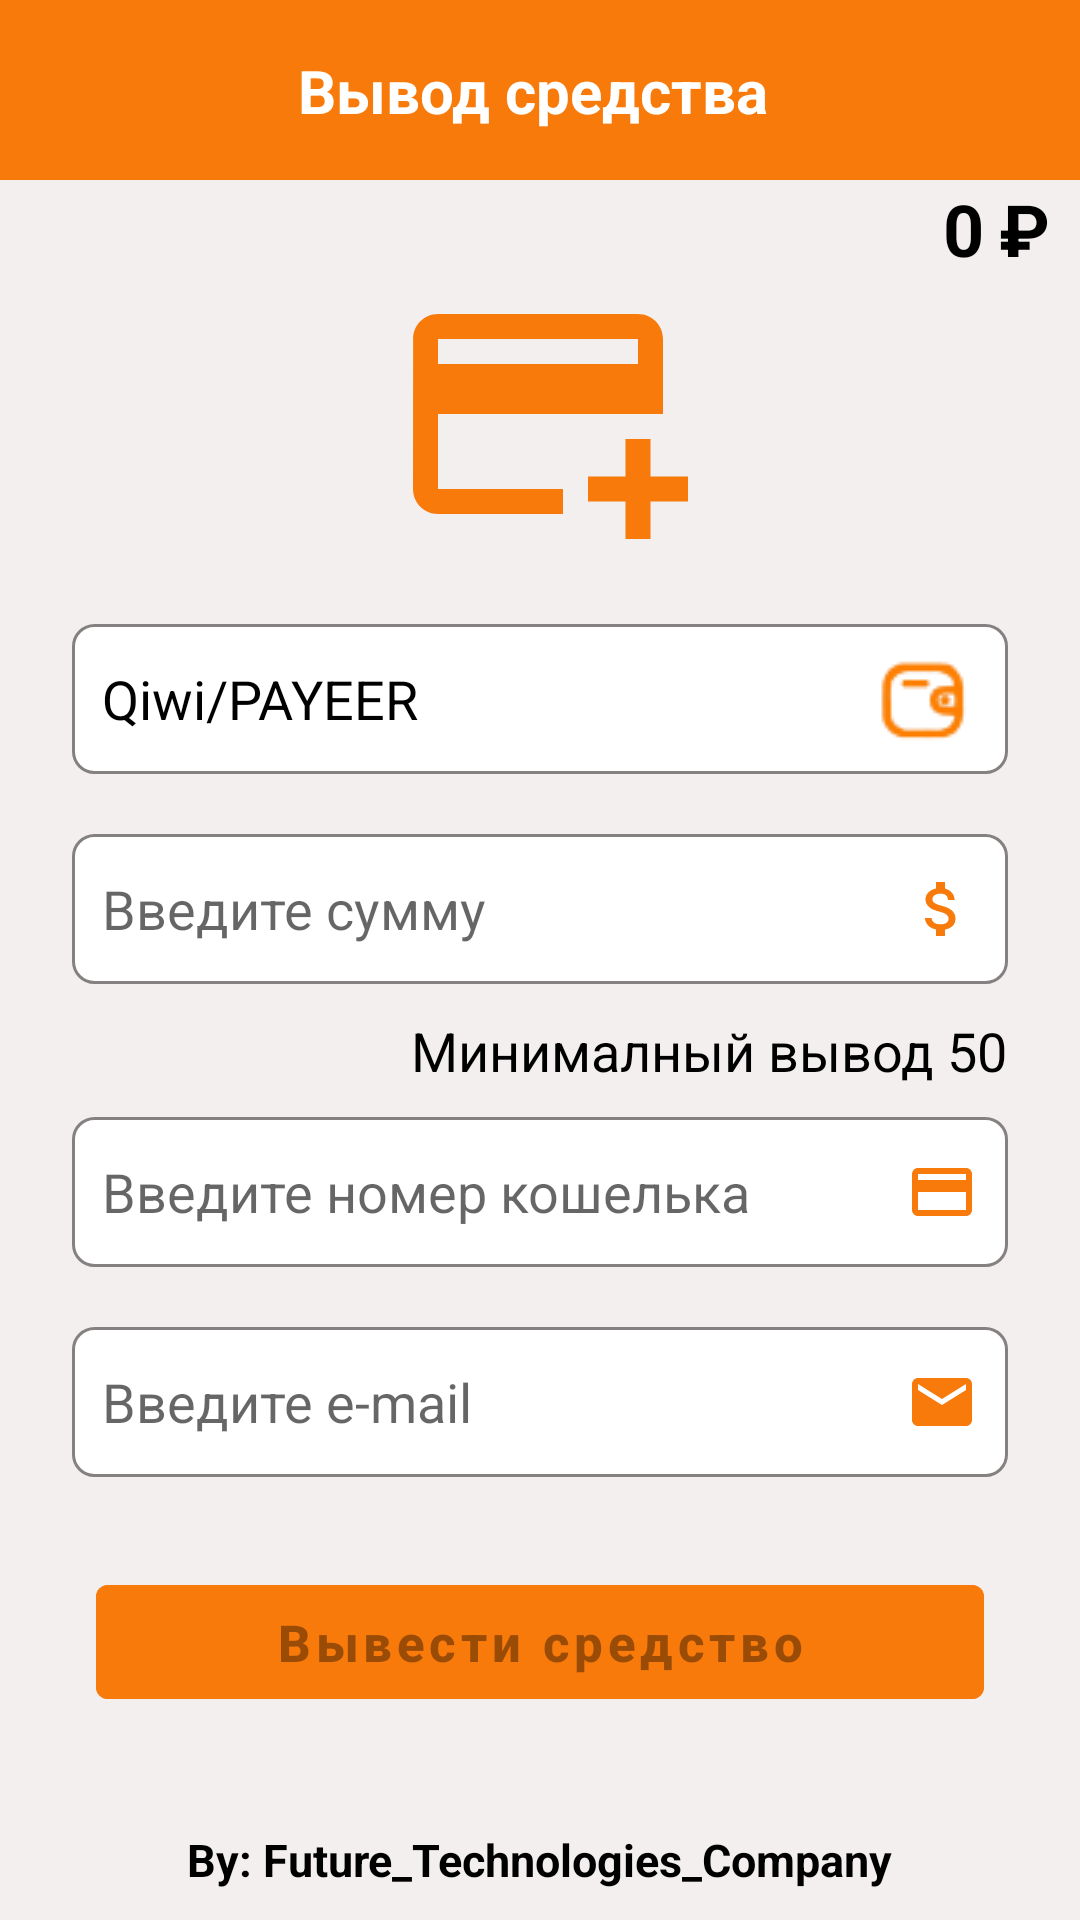

Point at icon controls on the screen. Image size 1080×1920, points as (x,y).
add card: (550,426)
